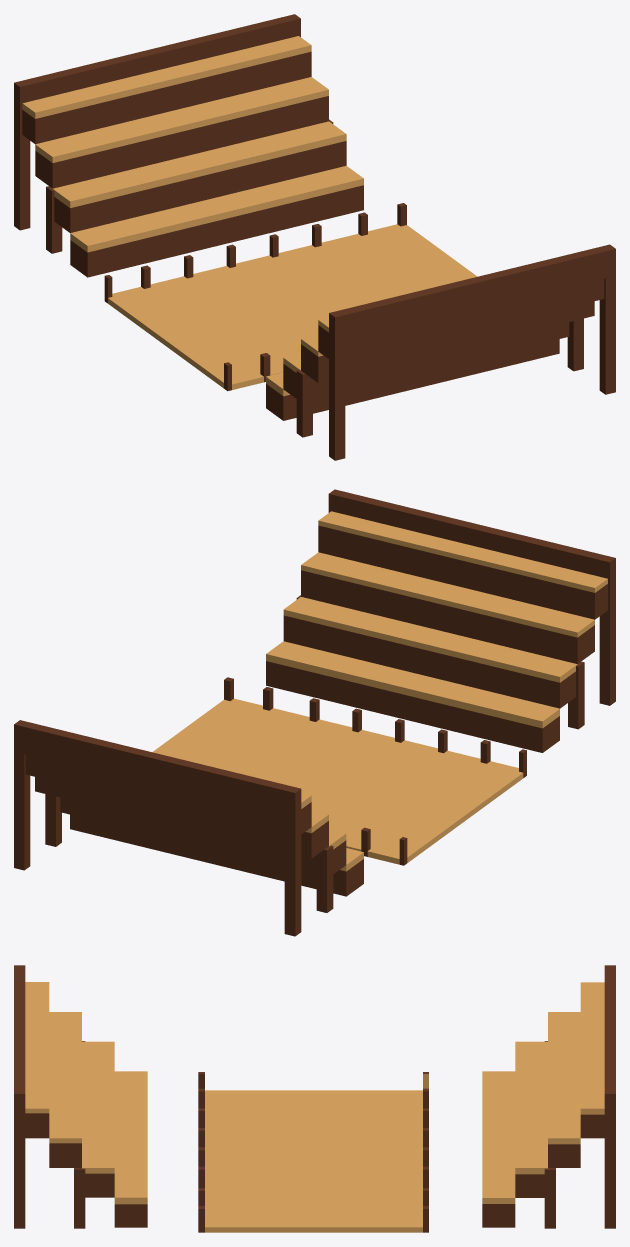
The model's file is SmallArena_AlexBlok_LOD.fbx.
The picture shows the model from 3 angles, top to bottom: view 1: azimuth 30°, elevation 25°; view 2: azimuth 150°, elevation 25°; view 3: azimuth 270°, elevation 25°; orthographic projection. The views are drawn at different scales.
Visible parts, largest first — view 1: SmallArena_LOD0; view 2: SmallArena_LOD0; view 3: SmallArena_LOD0.
Part boxes in pixels (bbox=[...]): SmallArena_LOD0: bbox=[14, 14, 615, 460]; SmallArena_LOD0: bbox=[14, 489, 615, 936]; SmallArena_LOD0: bbox=[14, 965, 615, 1232].
Size of what is drawn, in the model's own units: 979 by 448 by 1817.
